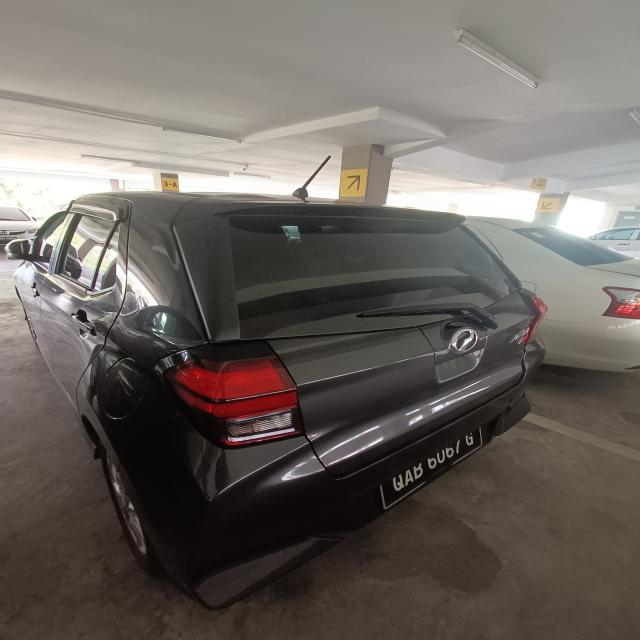PeroduaAxia: (6, 188, 550, 610)
